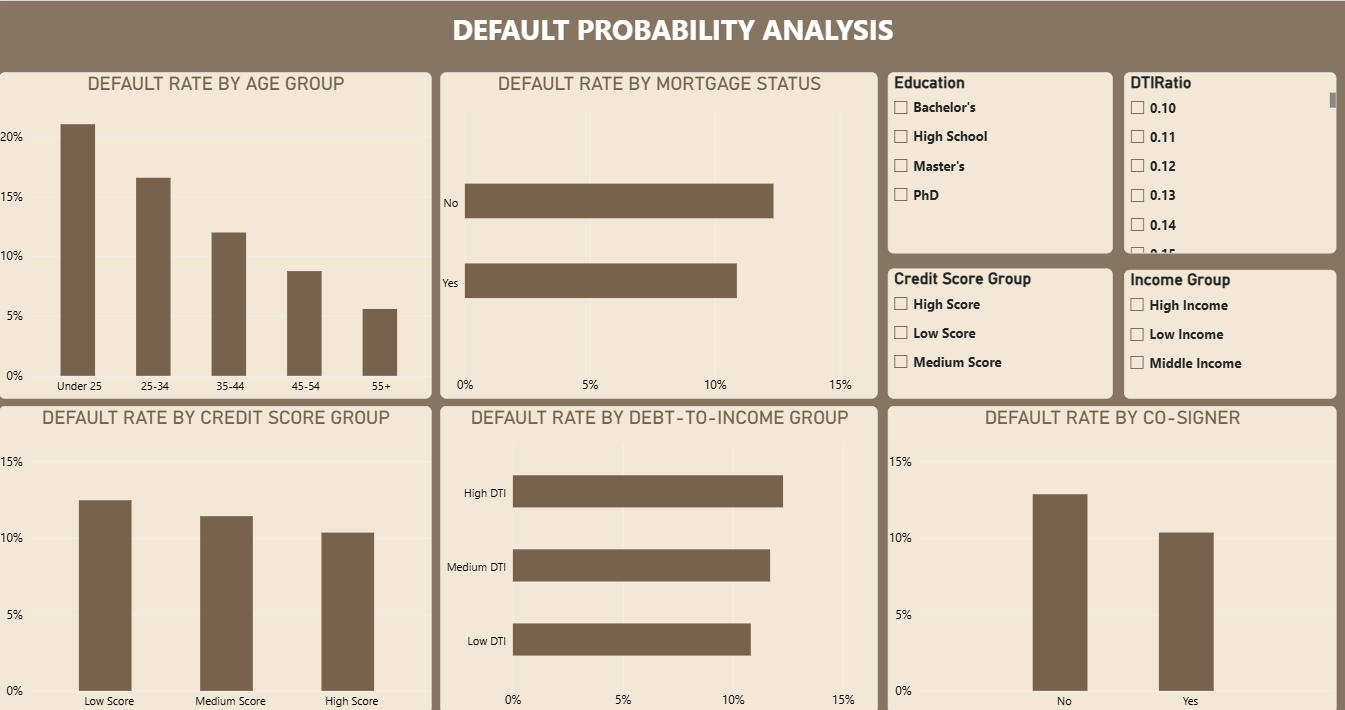

The dashboard page shown, as its layout file describes it:
{"tool":"powerbi","page":{"name":"Default Probability Analysis","canvas":[1920,1080],"ordinal":1},"visuals":[{"type":"textbox","box":[0,11.7,1796.7,50],"z":0},{"type":"clusteredColumnChart","title":"DEFAULT RATE BY AGE GROUP","fields":{"Category":["Loan_default.Age Group"],"Y":["Loan_default.Default Rate %"]},"box":[0,95,576.7,435],"z":1},{"type":"clusteredBarChart","title":"DEFAULT RATE BY MORTGAGE STATUS","fields":{"Category":["Loan_default.HasMortgage"],"Y":["Loan_default.Default Rate %"]},"box":[588.3,95,583.3,435],"z":2},{"type":"clusteredColumnChart","title":"DEFAULT RATE BY CREDIT SCORE GROUP","fields":{"Category":["Loan_default.Credit Score Group"],"Y":["Loan_default.Default Rate %"]},"box":[0,540,576.7,410],"z":4},{"type":"clusteredBarChart","title":"DEFAULT RATE BY DEBT-TO-INCOME GROUP","fields":{"Category":["Loan_default.DTI Group"],"Y":["Loan_default.Default Rate %"]},"box":[588.3,540,583.3,410],"z":5},{"type":"clusteredColumnChart","title":"DEFAULT RATE BY CO-SIGNER ","fields":{"Category":["Loan_default.HasCoSigner"],"Y":["Loan_default.Default Rate %"]},"box":[1185,540,598.3,410],"z":6},{"type":"slicer","fields":{"Values":["Loan_default.Income Group"]},"box":[1500,358.3,283.3,171.7],"z":7},{"type":"slicer","fields":{"Values":["Loan_default.Credit Score Group"]},"box":[1185,356.7,300,173.3],"z":8},{"type":"slicer","fields":{"Values":["Loan_default.DTIRatio"]},"box":[1500,95,283.3,241.7],"z":9},{"type":"slicer","fields":{"Values":["Loan_default.Education"]},"box":[1185,95,300,241.7],"z":10}]}

Visuals, with their boxes on the page's 1920x1080 design canvas (x1, y1, x2, y2). These are canvas units, not pixel positions in the 1345x710 screenshot, which may show the page scaled, cropped or inside an application window:
textbox: x1=0, y1=12, x2=1797, y2=62
"DEFAULT RATE BY AGE GROUP" clusteredColumnChart: x1=0, y1=95, x2=577, y2=530
"DEFAULT RATE BY MORTGAGE STATUS" clusteredBarChart: x1=588, y1=95, x2=1172, y2=530
"DEFAULT RATE BY CREDIT SCORE GROUP" clusteredColumnChart: x1=0, y1=540, x2=577, y2=950
"DEFAULT RATE BY DEBT-TO-INCOME GROUP" clusteredBarChart: x1=588, y1=540, x2=1172, y2=950
"DEFAULT RATE BY CO-SIGNER " clusteredColumnChart: x1=1185, y1=540, x2=1783, y2=950
slicer - Loan_default.Income Group: x1=1500, y1=358, x2=1783, y2=530
slicer - Loan_default.Credit Score Group: x1=1185, y1=357, x2=1485, y2=530
slicer - Loan_default.DTIRatio: x1=1500, y1=95, x2=1783, y2=337
slicer - Loan_default.Education: x1=1185, y1=95, x2=1485, y2=337
